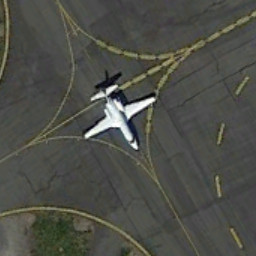Airplane: (72, 73, 163, 161)
